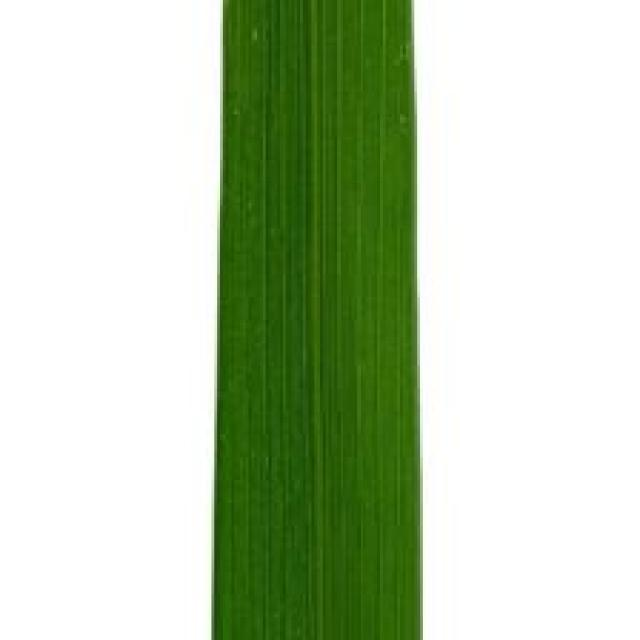Rice___Healthy_Rice_Plant: (211, 0, 424, 637)
